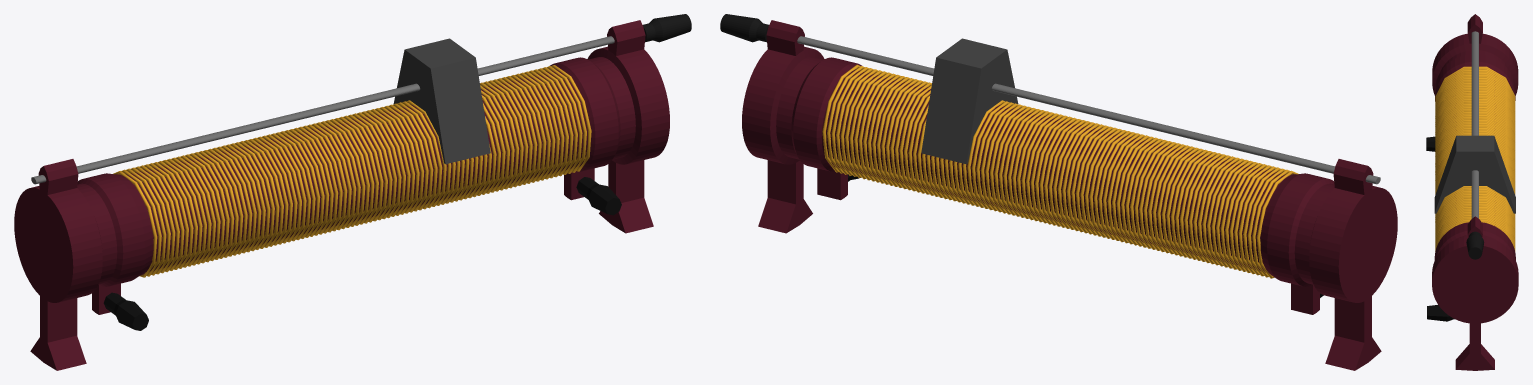
Rendered from Rheostat.fbx.
3 renders of one model, left to right at view 1: azimuth 30°, elevation 25°; view 2: azimuth 150°, elevation 25°; view 3: azimuth 270°, elevation 25°, orthographic. The views are drawn at different scales.
Visible parts, largest first — view 1: Cylinder, Spiral, Cube, Cylinder.002, Cylinder.001, Cylinder.003; view 2: Cylinder, Spiral, Cube, Cylinder.002, Cylinder.003; view 3: Cylinder, Spiral, Cube, Cylinder.002, Cylinder.001, Cylinder.003.
Part boxes in pixels (x1=…): Cylinder: x1=14, y1=20, x2=669, y2=370; Spiral: x1=113, y1=65, x2=591, y2=277; Cube: x1=393, y1=38, x2=490, y2=164; Cylinder.002: x1=31, y1=36, x2=614, y2=184; Cylinder.001: x1=103, y1=177, x2=621, y2=330; Cylinder.003: x1=642, y1=14, x2=691, y2=42; Cylinder: x1=742, y1=20, x2=1397, y2=370; Spiral: x1=822, y1=64, x2=1298, y2=278; Cube: x1=921, y1=38, x2=1018, y2=164; Cylinder.002: x1=797, y1=36, x2=1380, y2=184; Cylinder.003: x1=720, y1=14, x2=768, y2=42; Cylinder: x1=1432, y1=14, x2=1518, y2=370; Spiral: x1=1435, y1=66, x2=1515, y2=251; Cube: x1=1434, y1=135, x2=1515, y2=213; Cylinder.002: x1=1471, y1=31, x2=1478, y2=218; Cylinder.001: x1=1426, y1=136, x2=1454, y2=321; Cylinder.003: x1=1466, y1=231, x2=1484, y2=259.
Bounding box in the file's own units: 43.37 × 13.55 × 7.27.
